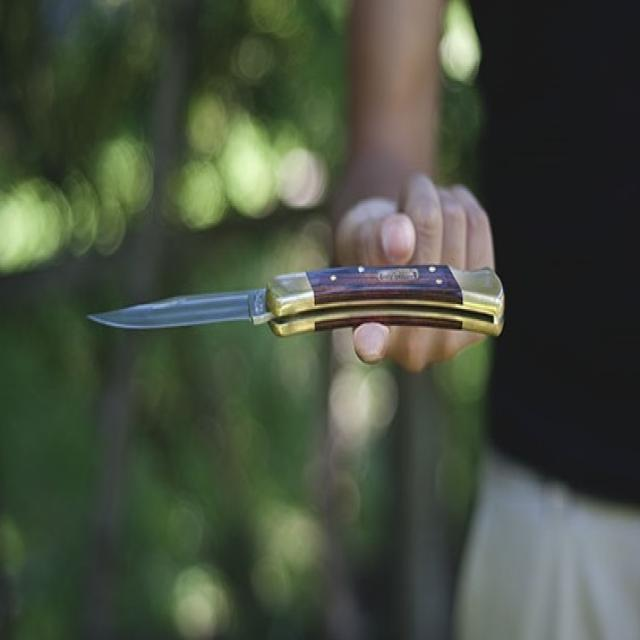knife: (93, 244, 529, 398)
